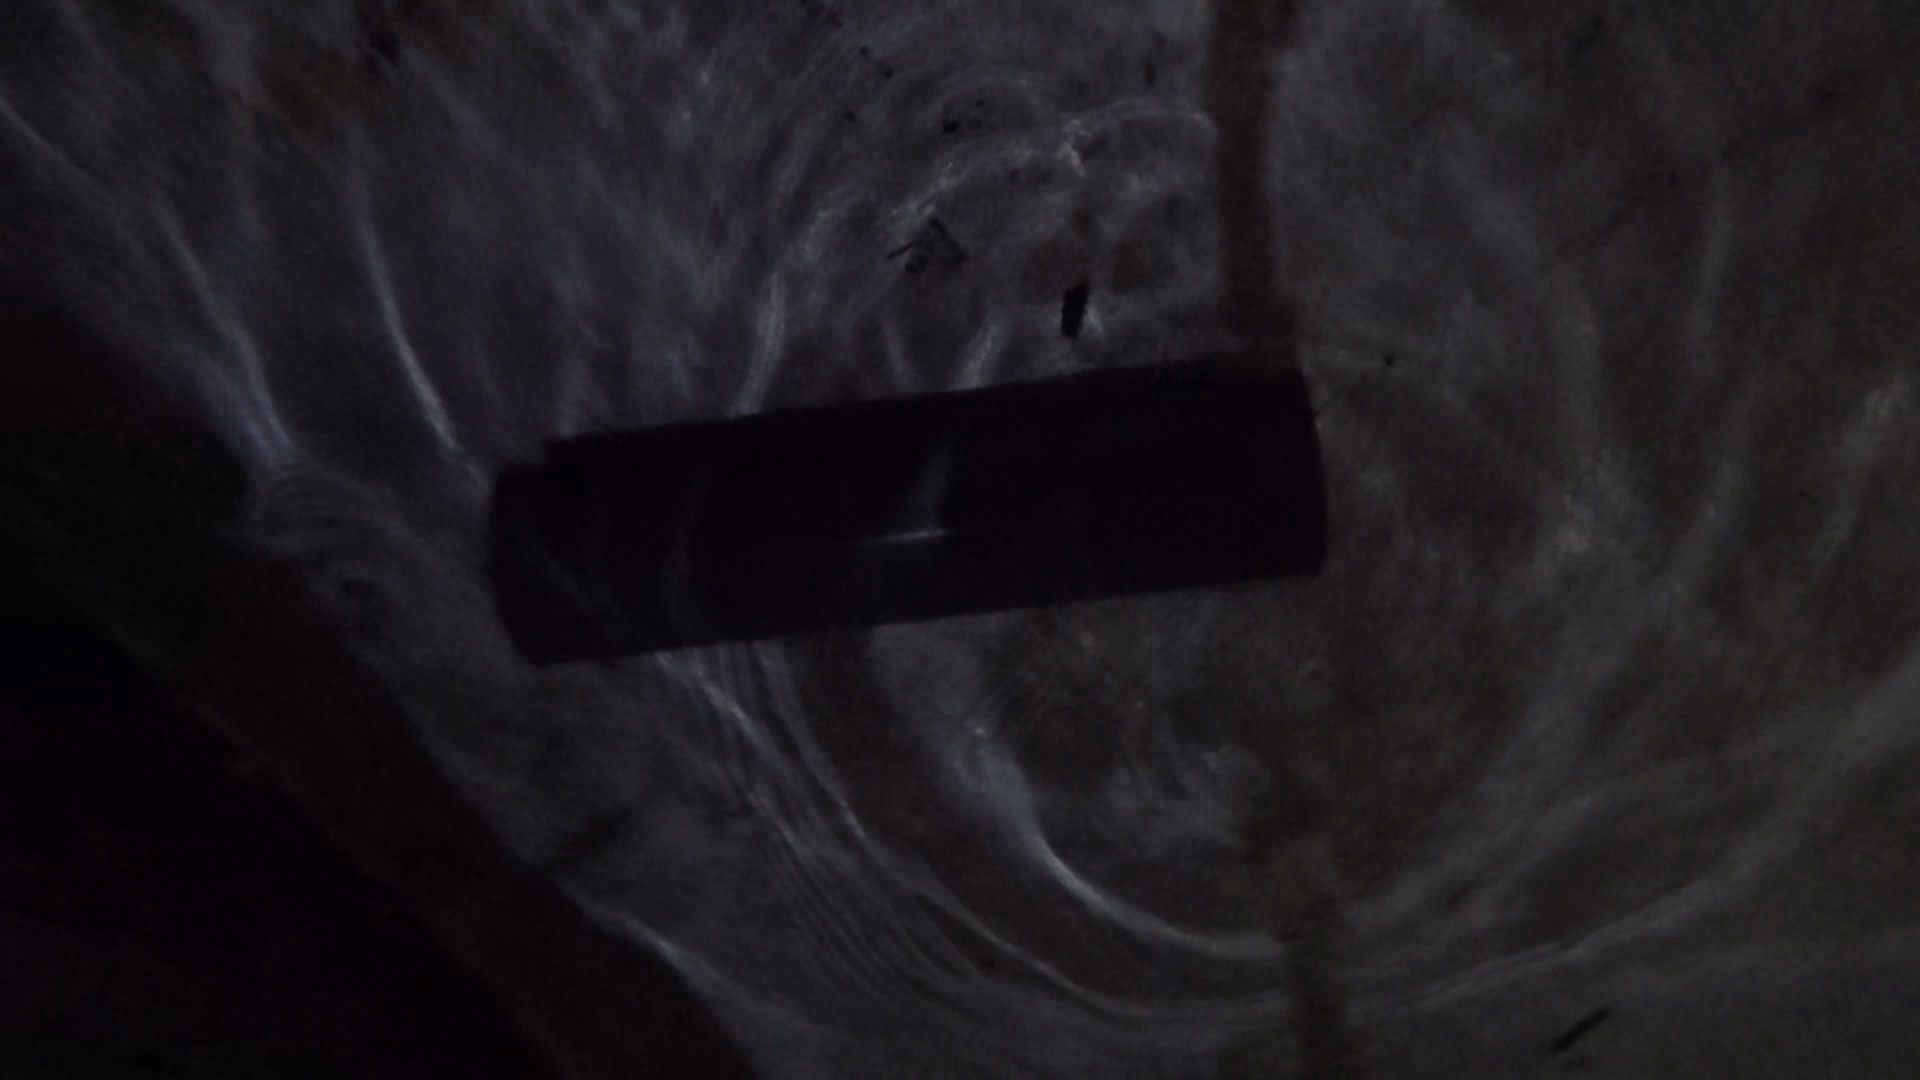pipe: (481, 368, 1331, 671)
